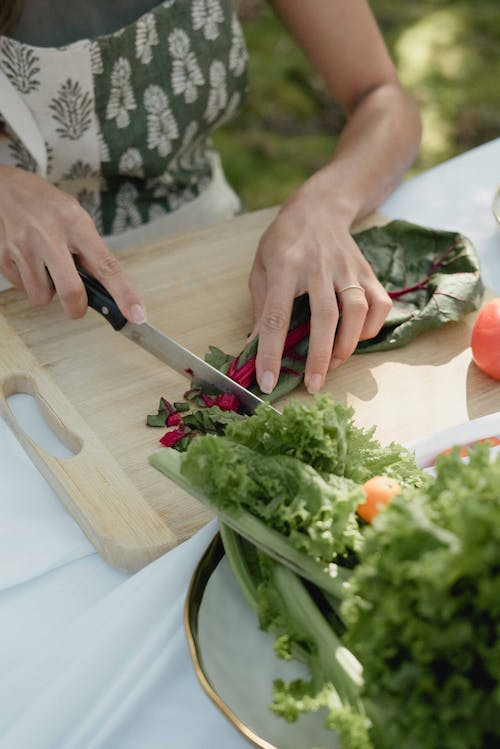knife: (73, 264, 284, 418)
